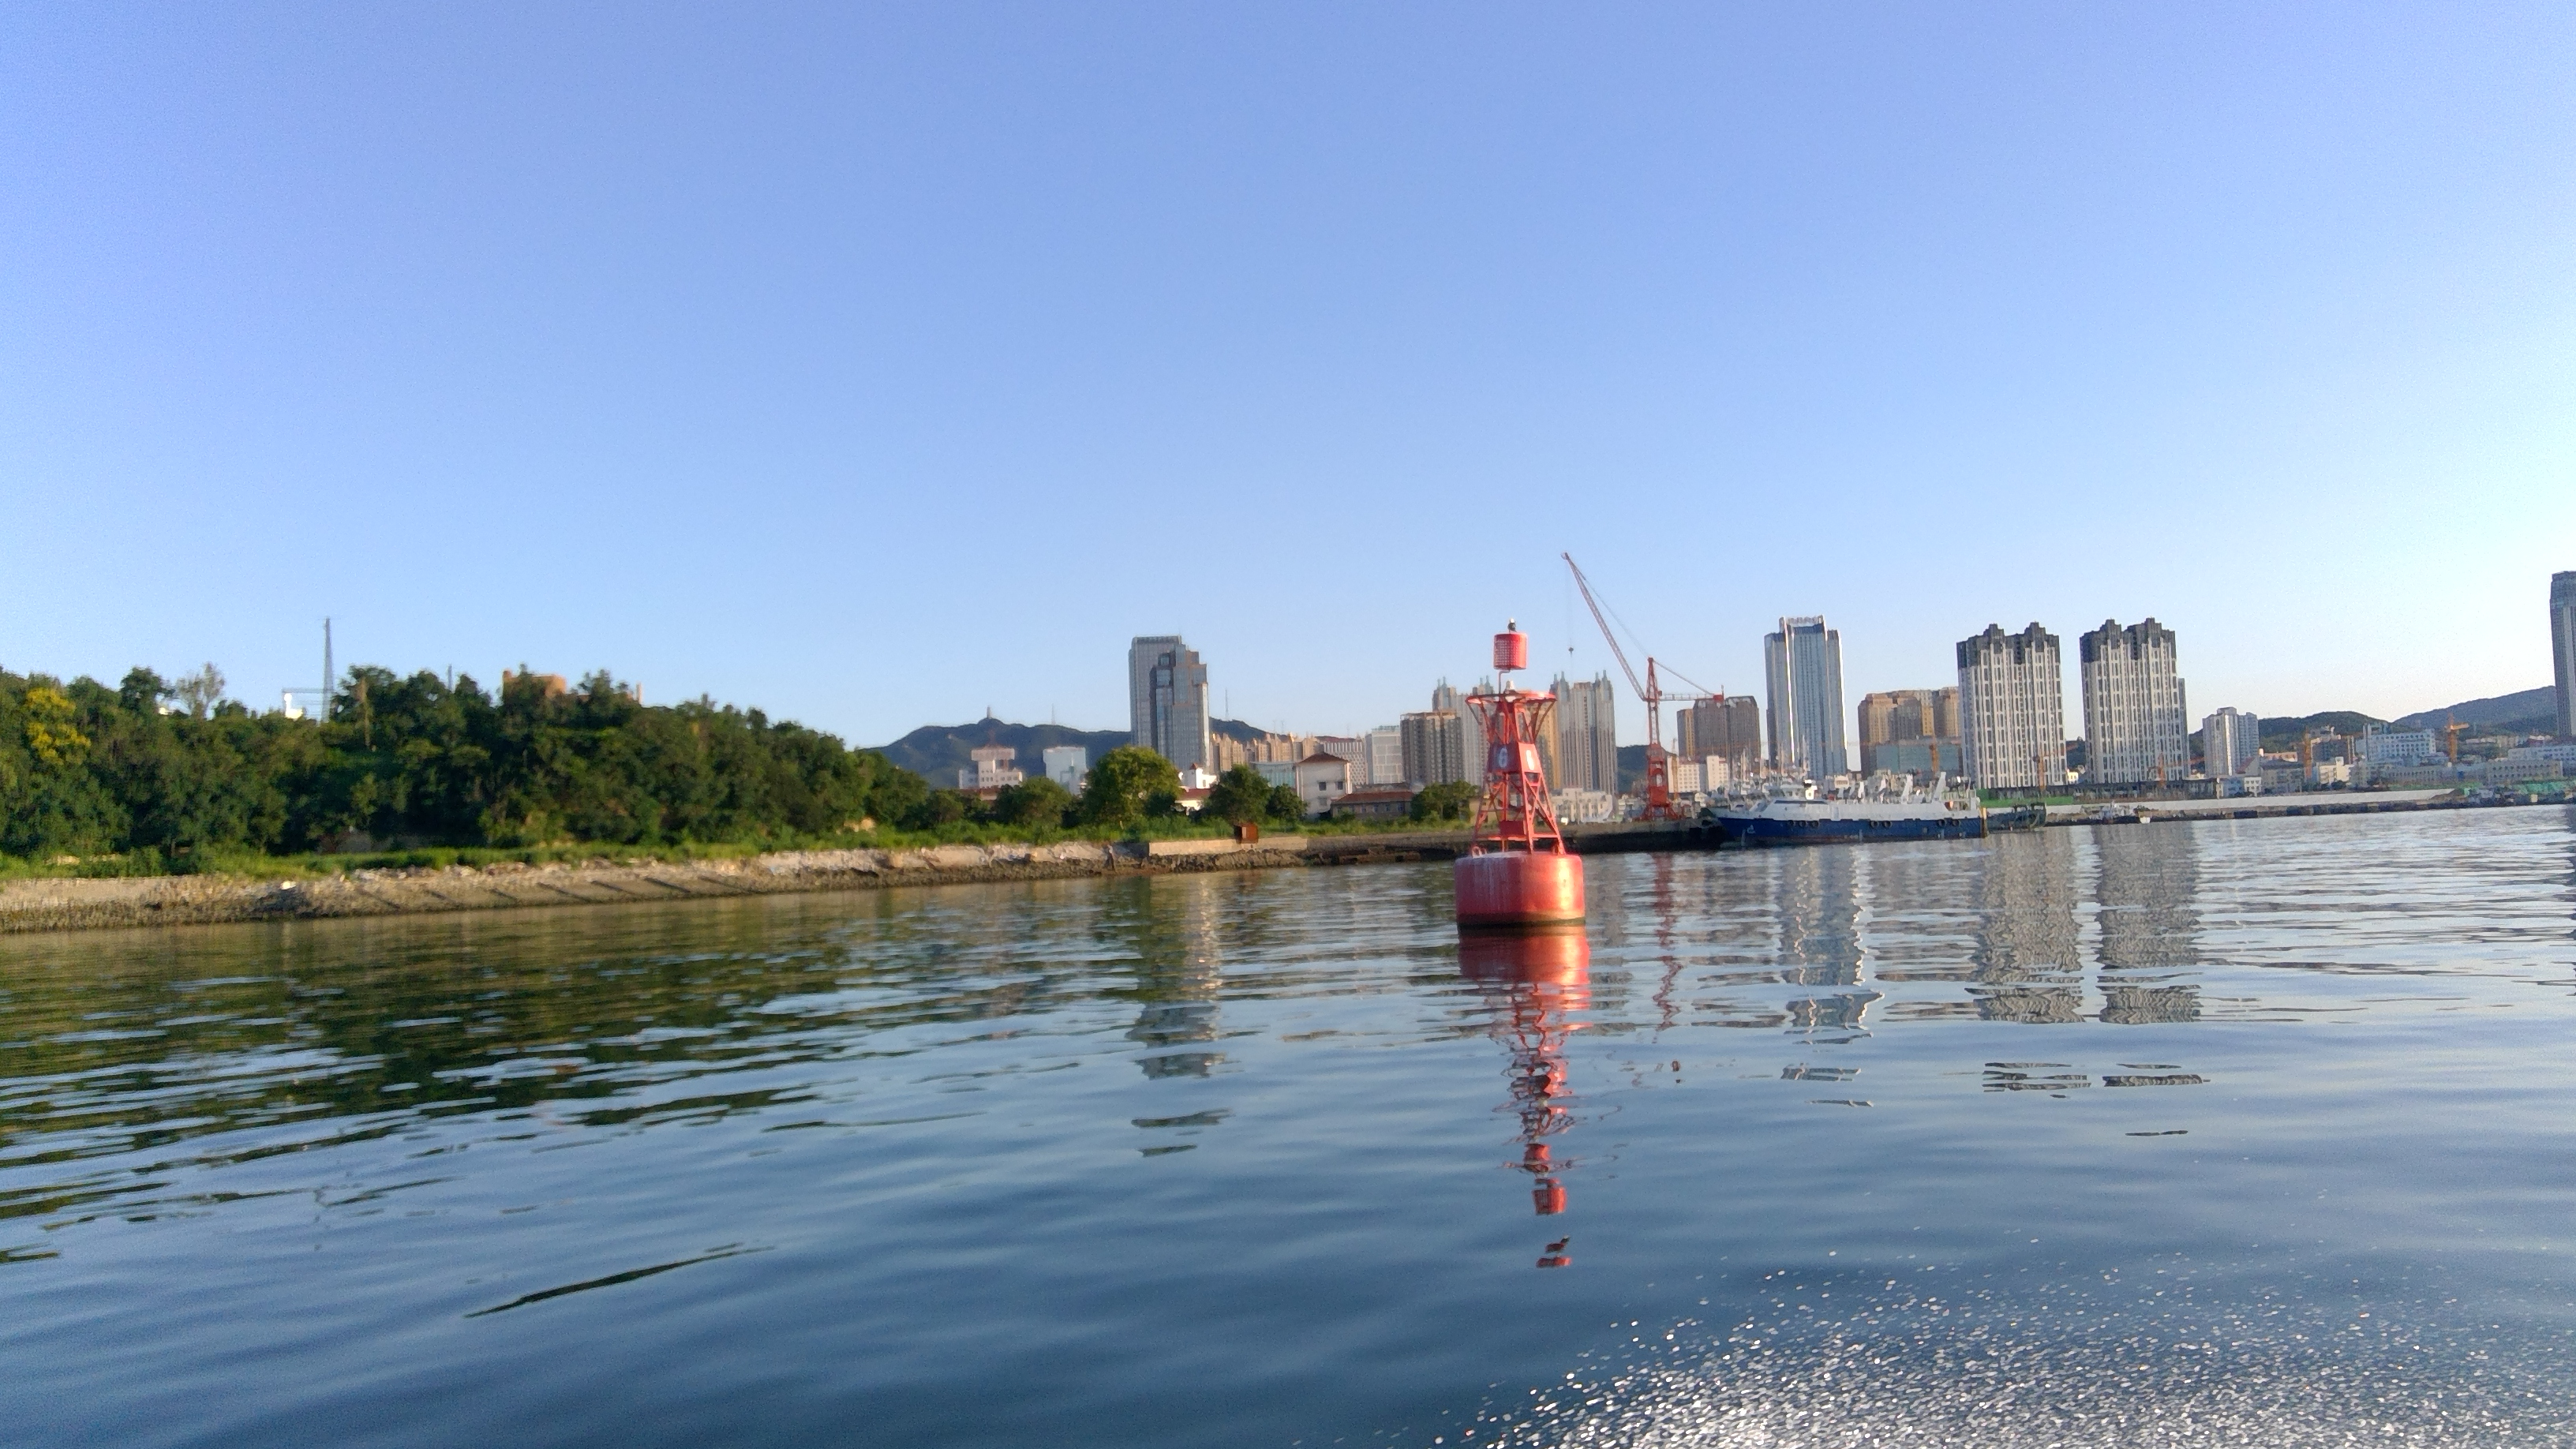buoy: (1435, 616, 1601, 932)
ship: (1686, 755, 2003, 849)
